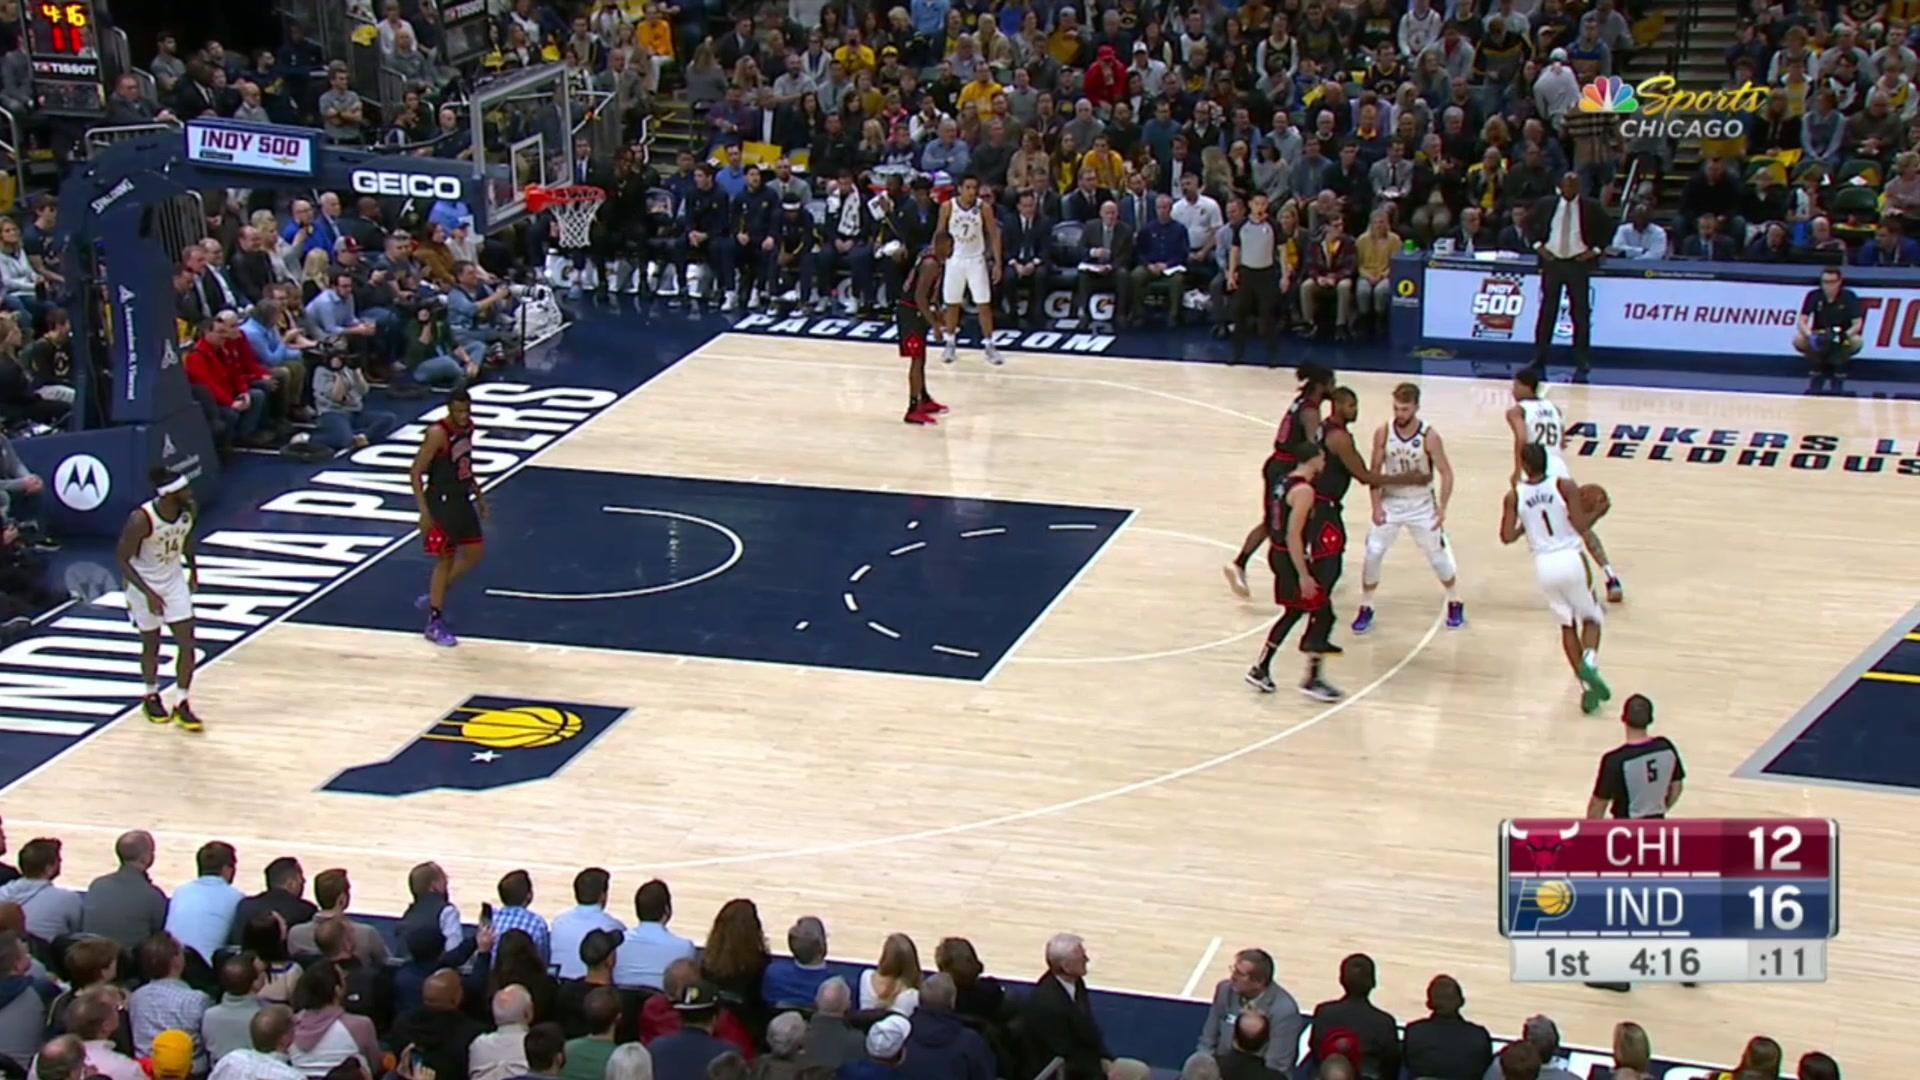no_foul: (1286, 360, 1439, 667)
